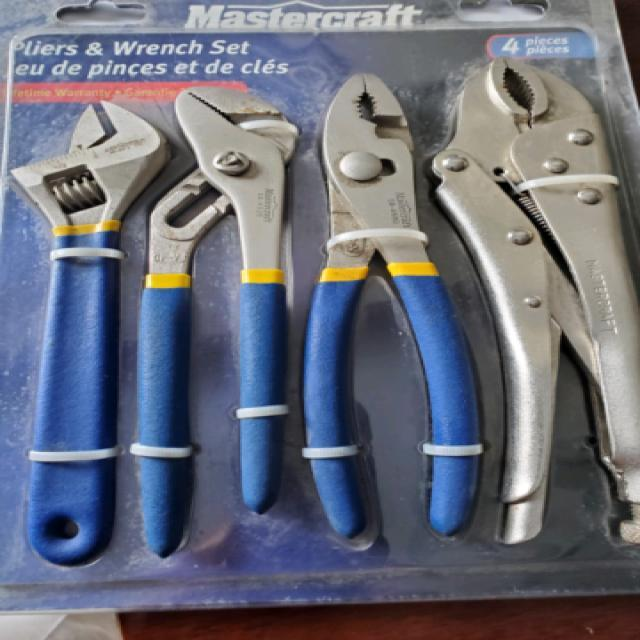pliers: (425, 47, 640, 554), (126, 82, 314, 562), (302, 68, 490, 546)
wrench: (6, 96, 180, 572)
